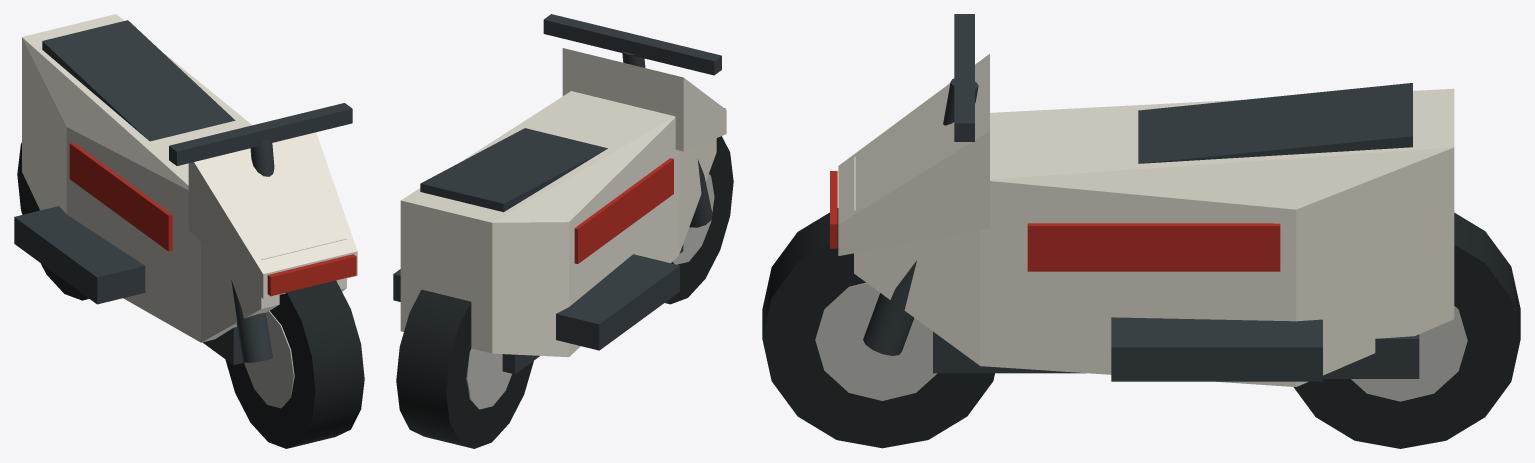
3 renders of one model, left to right at view 1: azimuth 30°, elevation 25°; view 2: azimuth 150°, elevation 25°; view 3: azimuth 270°, elevation 25°, orthographic. The views are drawn at different scales.
Parts seen in each view (by area): view 1: motorcycle-fleet-armor, motorcycle-fleet-machine, front-wheel-fleet-rubber, motorcycle-fleet-red, steering-fleet-machine, front-wheel-fleet-edge, front-fork-fleet-machine, rear-wheel-fleet-rubber; view 2: motorcycle-fleet-armor, motorcycle-fleet-machine, rear-wheel-fleet-rubber, steering-fleet-machine, motorcycle-fleet-red, front-wheel-fleet-rubber, rear-wheel-fleet-edge, front-wheel-fleet-edge, front-fork-fleet-machine; view 3: motorcycle-fleet-armor, motorcycle-fleet-machine, front-wheel-fleet-rubber, rear-wheel-fleet-rubber, motorcycle-fleet-red, front-wheel-fleet-edge, rear-wheel-fleet-edge, steering-fleet-machine, front-fork-fleet-machine.
Boxes of the visible parts, x1,y1,x2,y2 form: motorcycle-fleet-armor: (22, 14, 357, 342); motorcycle-fleet-machine: (14, 20, 243, 365); front-wheel-fleet-rubber: (225, 280, 364, 448); motorcycle-fleet-red: (69, 142, 356, 296); steering-fleet-machine: (169, 103, 352, 176); front-wheel-fleet-edge: (244, 311, 294, 408); front-fork-fleet-machine: (231, 280, 272, 362); rear-wheel-fleet-rubber: (17, 142, 88, 300); motorcycle-fleet-armor: (400, 48, 726, 357); motorcycle-fleet-machine: (393, 128, 683, 374); rear-wheel-fleet-rubber: (396, 289, 533, 448); steering-fleet-machine: (543, 14, 721, 75); motorcycle-fleet-red: (574, 108, 725, 263); front-wheel-fleet-rubber: (665, 136, 733, 304); rear-wheel-fleet-edge: (466, 348, 511, 409); front-wheel-fleet-edge: (672, 174, 714, 264); front-fork-fleet-machine: (689, 159, 712, 227); motorcycle-fleet-armor: (838, 54, 1454, 386); motorcycle-fleet-machine: (933, 83, 1419, 381); front-wheel-fleet-rubber: (762, 208, 994, 448); rear-wheel-fleet-rubber: (1293, 212, 1520, 448); motorcycle-fleet-red: (830, 171, 1280, 271); front-wheel-fleet-edge: (815, 282, 937, 400); rear-wheel-fleet-edge: (1351, 306, 1467, 401); steering-fleet-machine: (943, 14, 978, 141); front-fork-fleet-machine: (863, 260, 916, 355).
Bounding box in the file's own units: 5.1 × 6.56 × 12.37.
